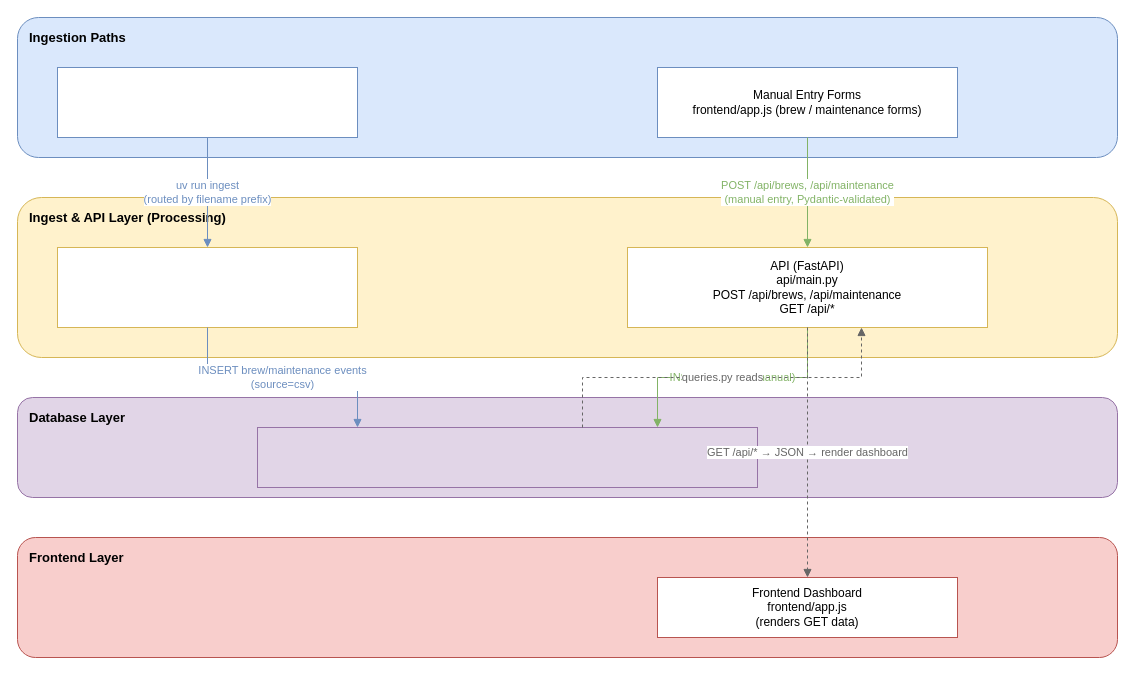
This 1135x675 diagram has some shape labels left out. The centre of each missing label's shape, as x and y in pixels:
"CSV Files data/inbox/*.csv (brews_*, manual_*, maintenance_*)" goes at point 207,102.
"Ingest Module ingest/loader.py (uv run ingest)" goes at point 207,287.
"SQLite Database db/schema.py, connection.py, queries.py" goes at point 507,457.
